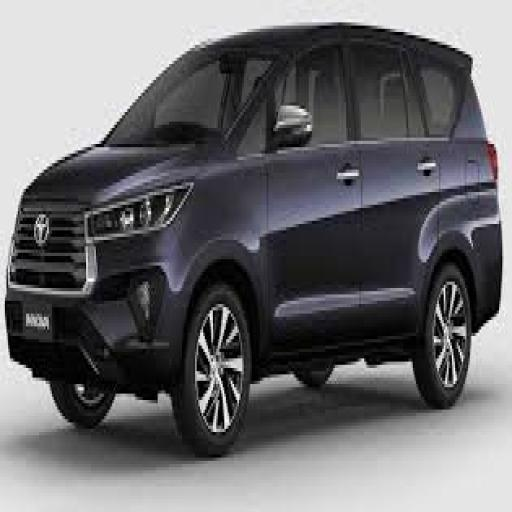car: (2, 10, 504, 481)
